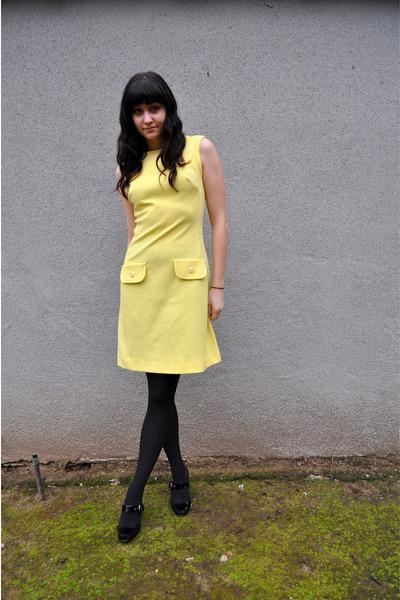dress: (117, 135, 220, 373)
shoe: (116, 468, 193, 539)
